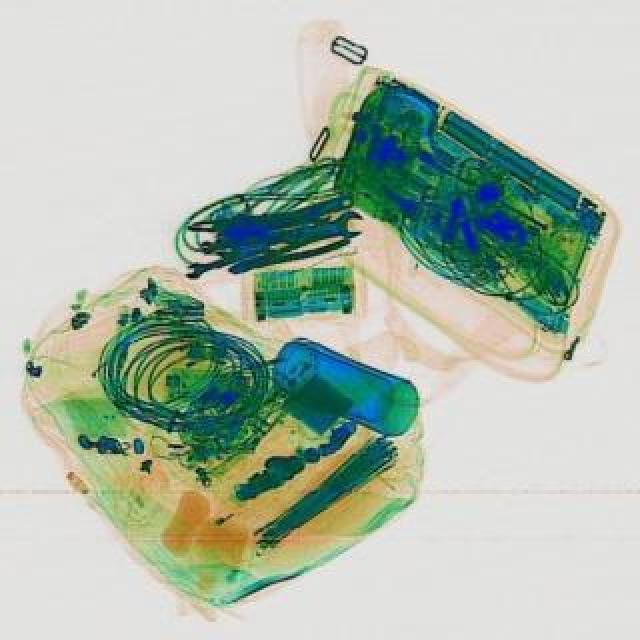scissors: (278, 210, 366, 252), (182, 242, 266, 284)
wrench: (228, 228, 354, 284)
